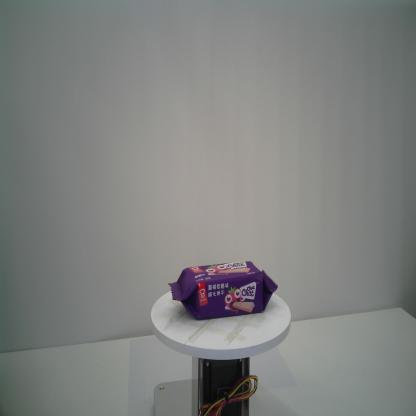Dessert: (168, 261, 280, 321)
